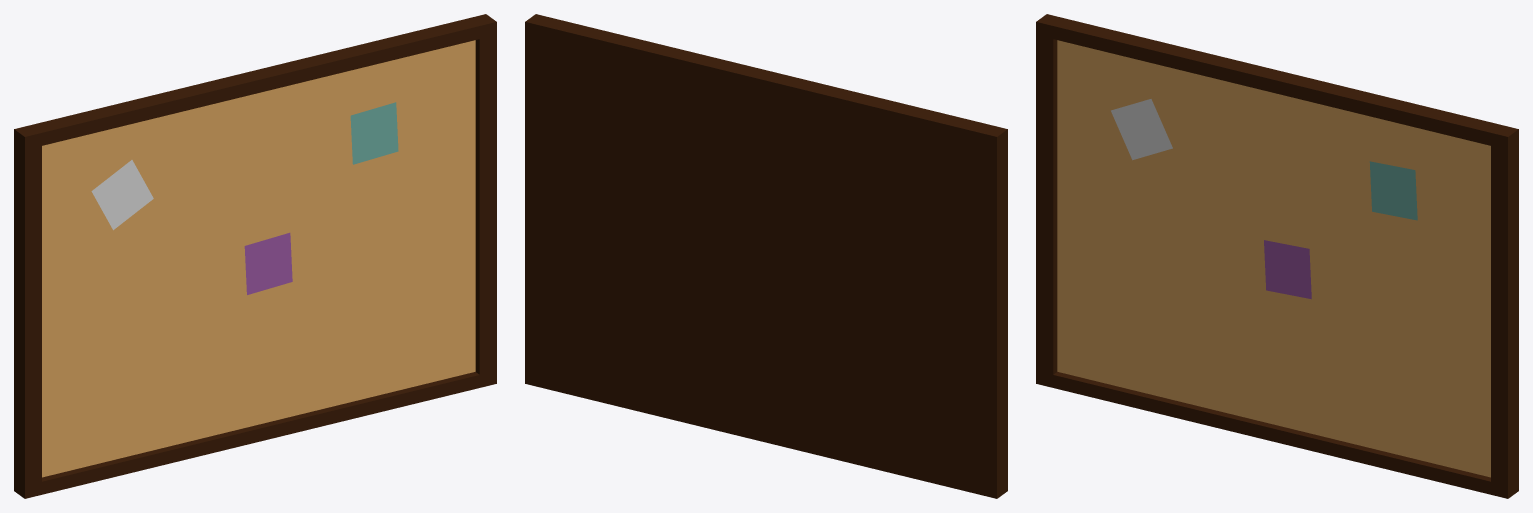
Rendered from board.fbx.
3 views of the same model, side by side, from view 1: azimuth 30°, elevation 25°; view 2: azimuth 150°, elevation 25°; view 3: azimuth 330°, elevation 25° (orthographic).
Parts seen in each view (by area): view 1: Board; view 2: Board; view 3: Board.
Boxes of the visible parts, <box> form: Board: <box>14,14,496,498</box>; Board: <box>525,14,1007,498</box>; Board: <box>1036,14,1518,498</box>.
Size of the model in its own units: 522 by 382 by 20.51.
